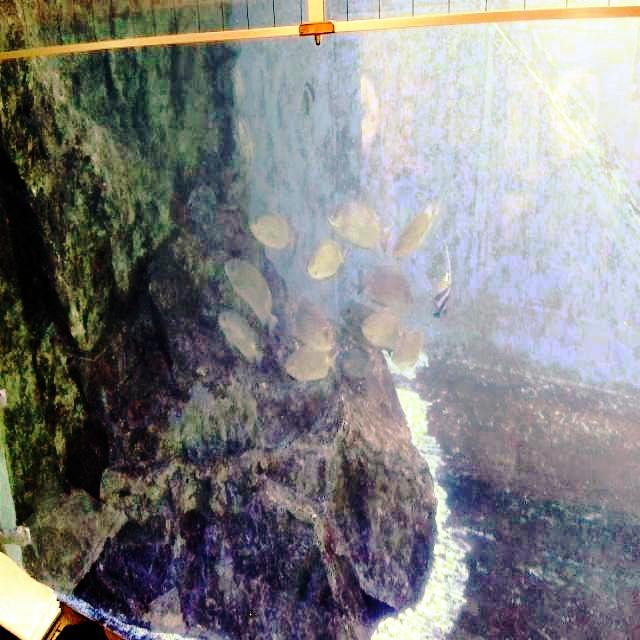angelfish: (426, 238, 462, 332), (290, 54, 328, 128)
gold snapper: (220, 240, 286, 346), (320, 185, 393, 268), (349, 244, 421, 319), (390, 180, 448, 266), (213, 301, 270, 379), (244, 192, 299, 262), (357, 303, 418, 361), (278, 338, 344, 389), (286, 294, 338, 356), (300, 231, 349, 287)
